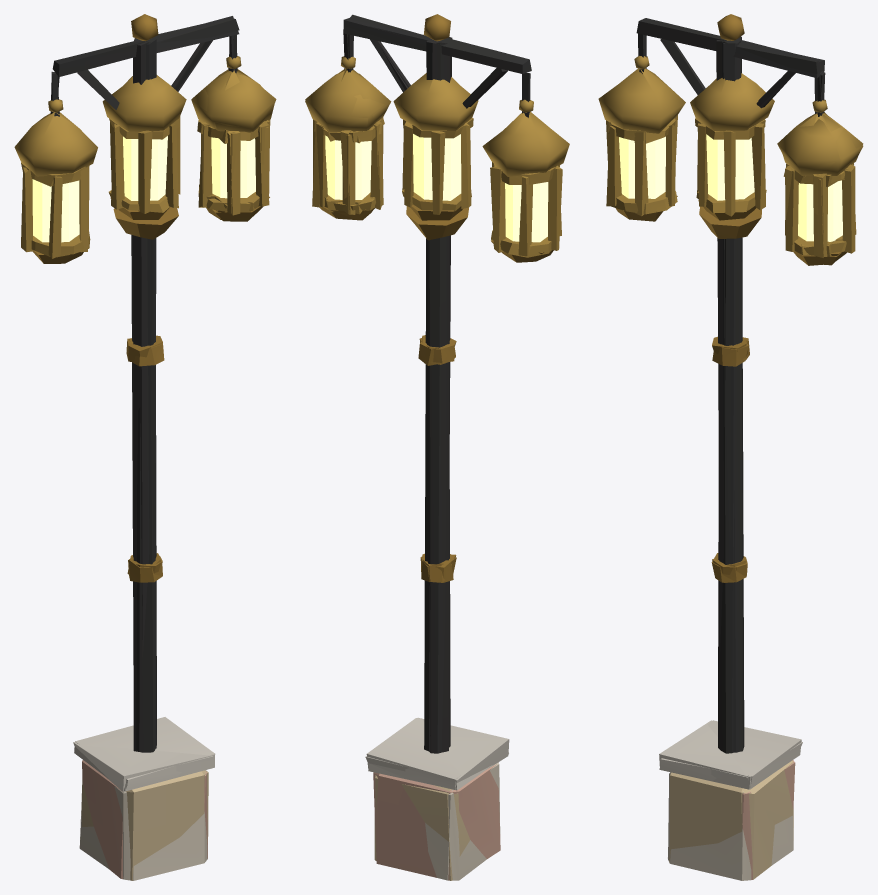
File: lamp.glb
3 views of the same model, side by side, from view 1: azimuth 30°, elevation 25°; view 2: azimuth 150°, elevation 25°; view 3: azimuth 330°, elevation 25° (orthographic).
Parts seen in each view (by area): view 1: lamp.v2.mesh, lamp.v1.mesh, lamp.v0.mesh; view 2: lamp.v2.mesh, lamp.v0.mesh, lamp.v1.mesh; view 3: lamp.v2.mesh, lamp.v0.mesh, lamp.v1.mesh.
Boxes of the visible parts, x1,y1,x2,y2 form: lamp.v2.mesh: (14,14,275,880); lamp.v1.mesh: (73,14,276,879); lamp.v0.mesh: (74,75,213,880); lamp.v2.mesh: (305,18,569,880); lamp.v0.mesh: (365,73,508,880); lamp.v1.mesh: (305,14,509,880); lamp.v2.mesh: (598,14,863,880); lamp.v0.mesh: (659,73,802,879); lamp.v1.mesh: (659,14,863,879).
Size of the model in its own units: 0.8269 by 2.71 by 0.3087.
